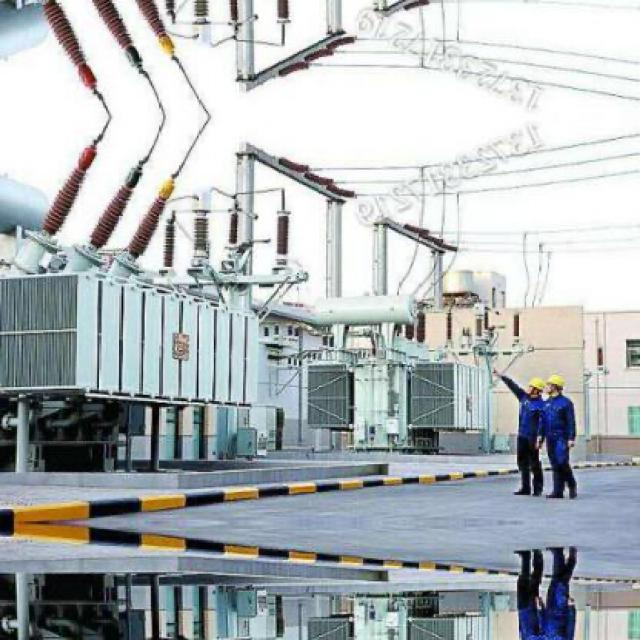helmet: (524, 376, 544, 401), (544, 375, 564, 398)
